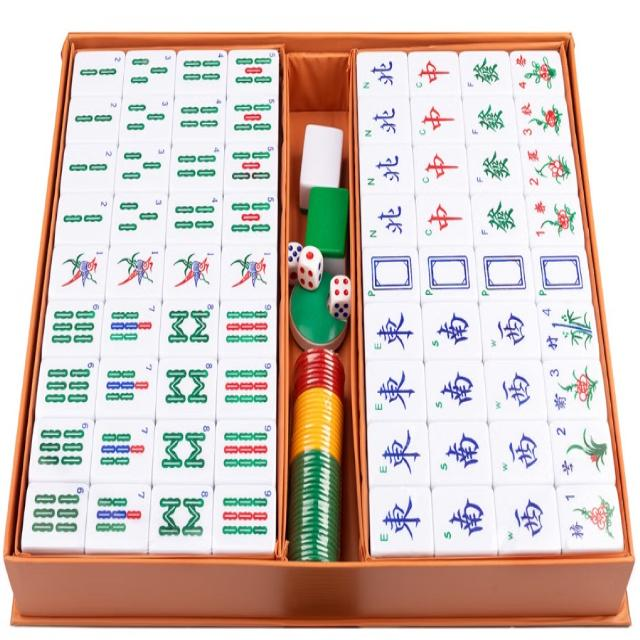1B: (49, 246, 107, 302), (163, 247, 219, 301), (221, 247, 276, 301), (108, 248, 164, 300)
1S: (527, 194, 585, 247)
2B: (54, 197, 109, 243), (68, 98, 119, 142), (72, 52, 124, 95), (62, 145, 113, 187)
2F: (551, 422, 616, 485)
2S: (520, 145, 579, 196)
3B: (120, 147, 168, 190), (115, 197, 163, 239), (124, 98, 170, 140), (126, 54, 172, 95)
3F: (543, 360, 605, 421)
3S: (514, 96, 570, 144)
4B: (168, 195, 218, 241), (172, 146, 220, 191), (176, 97, 223, 140), (178, 53, 226, 94)
4F: (538, 301, 599, 358)
4S: (558, 484, 621, 546), (510, 51, 565, 98)
5B: (226, 194, 278, 242), (228, 146, 277, 190), (229, 96, 277, 139), (230, 51, 278, 94)
6B: (31, 419, 93, 482), (27, 482, 88, 546), (39, 358, 98, 416), (45, 301, 102, 355)
7B: (88, 488, 148, 550), (92, 423, 152, 482), (100, 360, 157, 416), (104, 302, 161, 356)
8B: (151, 488, 211, 550), (154, 423, 213, 483), (158, 360, 215, 418), (161, 302, 217, 356)
9B: (216, 486, 275, 550), (218, 423, 276, 481), (219, 360, 276, 417), (221, 302, 277, 356)
EW: (370, 489, 433, 555), (368, 423, 429, 488), (367, 361, 427, 422), (365, 302, 423, 360)
GD: (472, 194, 528, 247), (468, 145, 522, 194), (465, 97, 517, 144), (461, 52, 513, 97)
NW: (362, 196, 418, 247), (362, 145, 416, 197), (360, 98, 413, 144), (358, 53, 410, 99)
RD: (417, 194, 475, 247), (415, 144, 470, 196), (410, 96, 464, 143), (408, 53, 459, 97)
SW: (434, 487, 498, 550), (429, 424, 492, 486), (426, 360, 486, 421), (423, 302, 482, 359)
WD: (363, 248, 420, 304), (533, 248, 591, 302), (421, 249, 478, 303), (476, 250, 533, 303)
WW: (491, 421, 553, 486), (486, 360, 547, 421), (496, 488, 556, 550), (482, 302, 542, 359)
